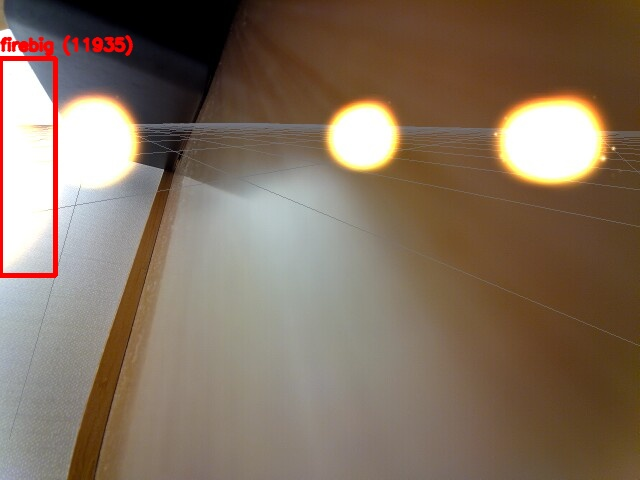firebig: (0, 58, 55, 275)
